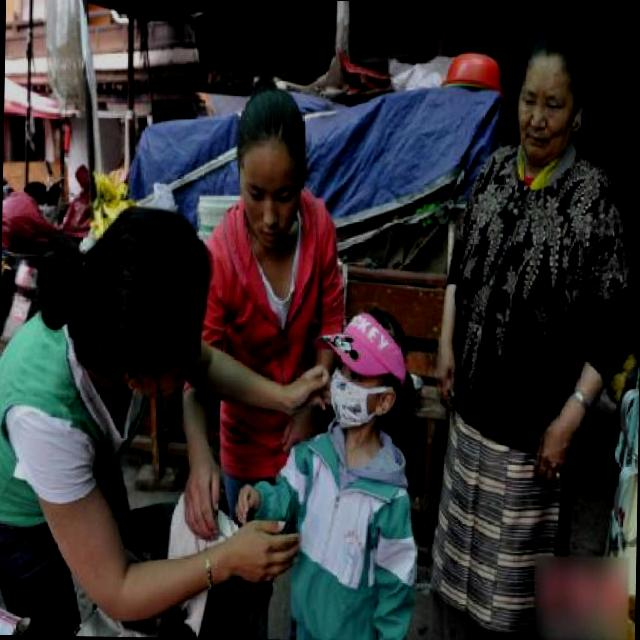Person: (440, 10, 611, 640)
